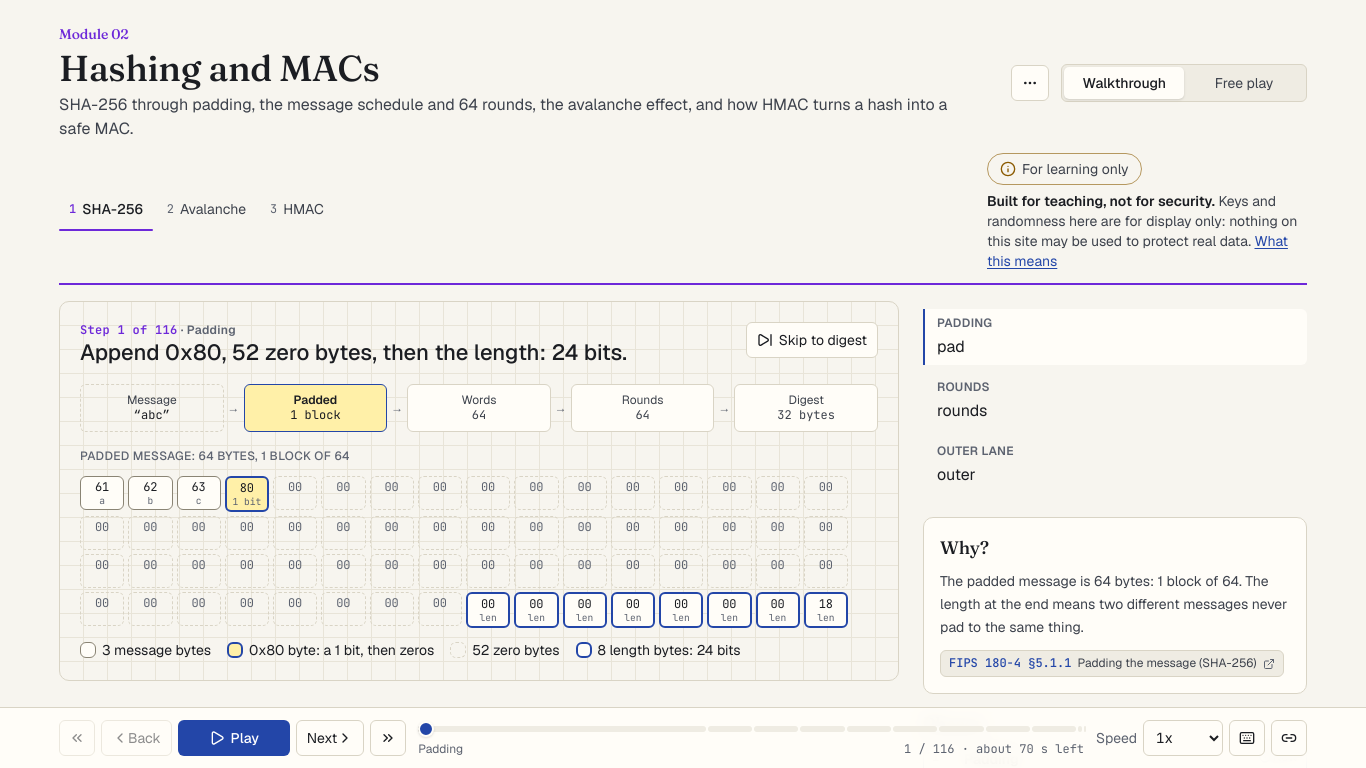
Test: HashingModule › ends on the digest, H0–H7 side by side
What coordinates should you click on to do the following:
click the button "Skip to digest"
I would click on:
 (812, 340)
Its box is [746,322,878,358].
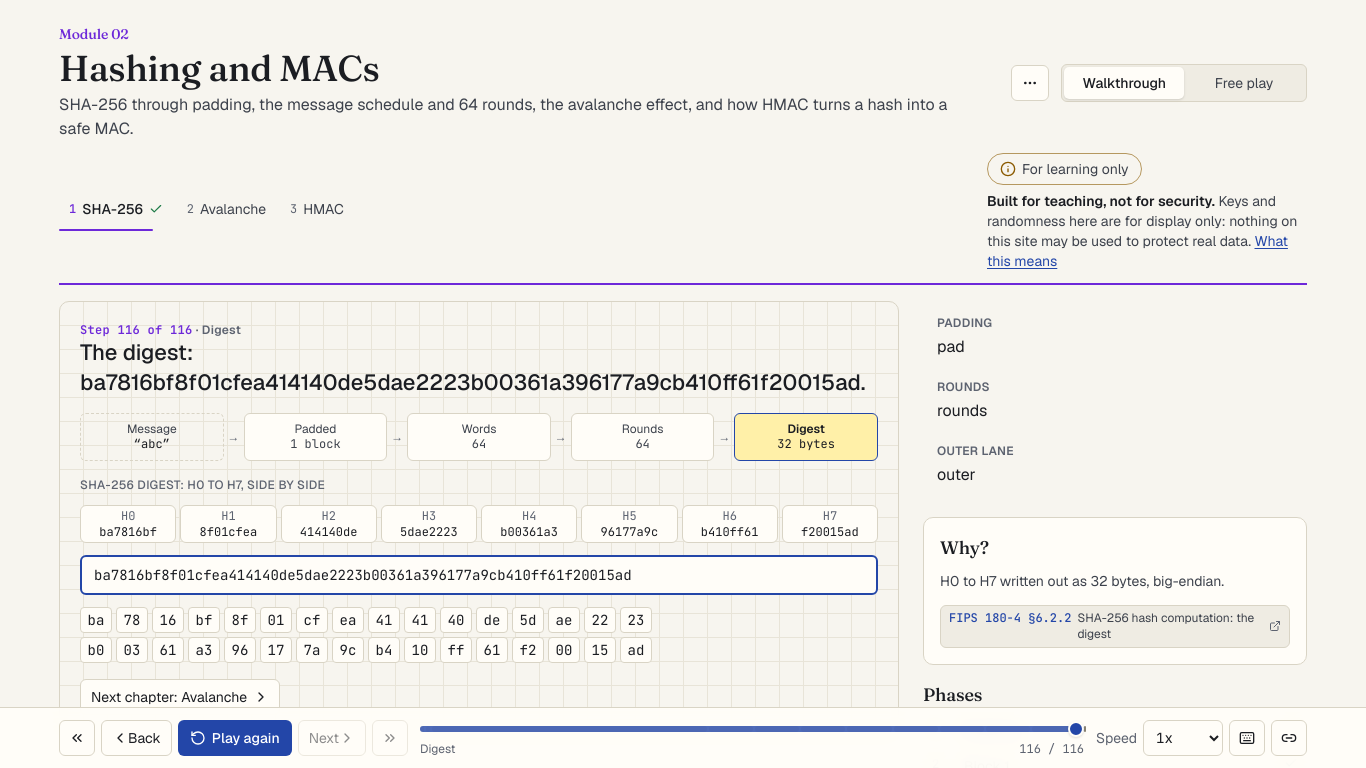
Result: the text with test id "sha256-digest" reads "ba7816bf8f01cfea414140de5dae2223b00361a396177a9cb410ff61f20015ad" at [94,566,632,584]
